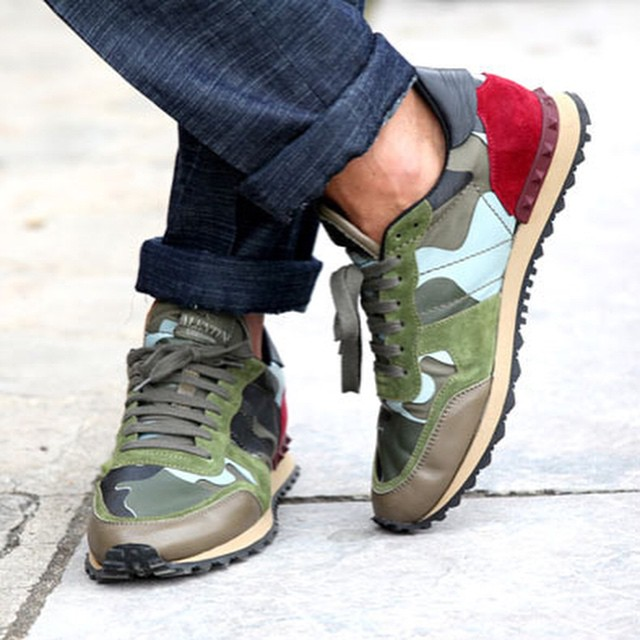sneaker: (300, 48, 606, 550), (63, 228, 337, 599)
